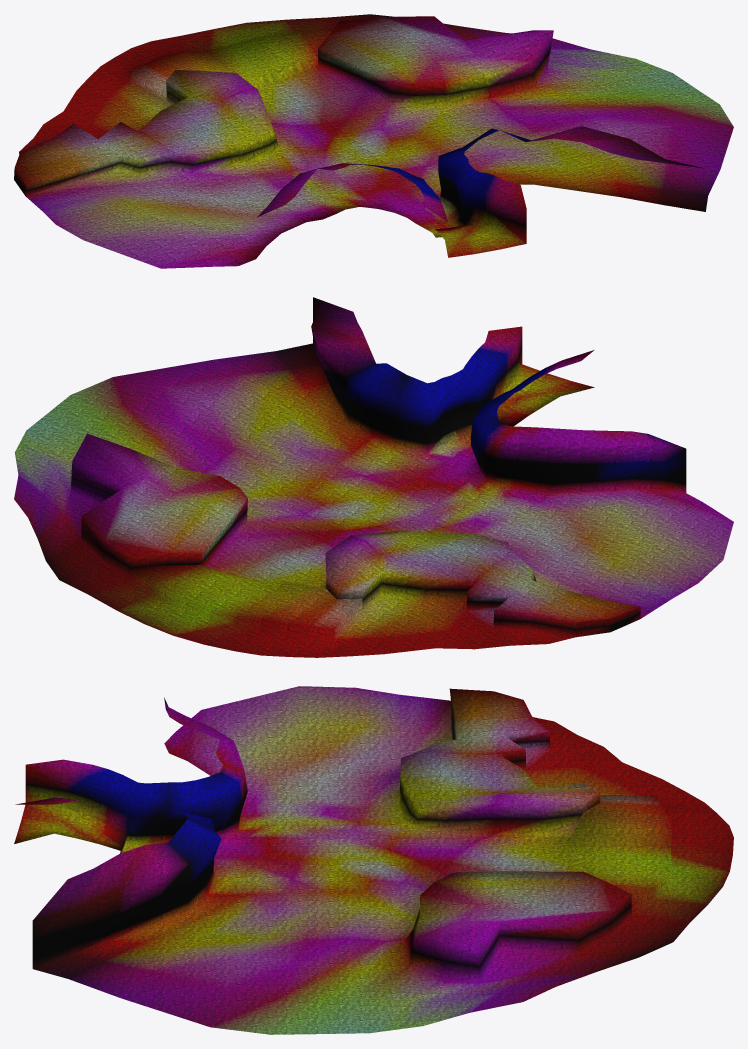
File: Level5Remeshed.glb
3 views of the same model, one above another, from view 1: azimuth 30°, elevation 25°; view 2: azimuth 150°, elevation 25°; view 3: azimuth 270°, elevation 25° (orthographic). The views are drawn at different scales.
Visible parts, largest first — view 1: Level5Remeshed; view 2: Level5Remeshed; view 3: Level5Remeshed.
Boxes of the visible parts, box(x1,y1,x2,y2) form: Level5Remeshed: box(14, 14, 733, 268); Level5Remeshed: box(14, 297, 733, 657); Level5Remeshed: box(14, 686, 733, 1034).
Bounding box in the file's own units: 196 × 20.03 × 175.
1 material, 1 textured.
